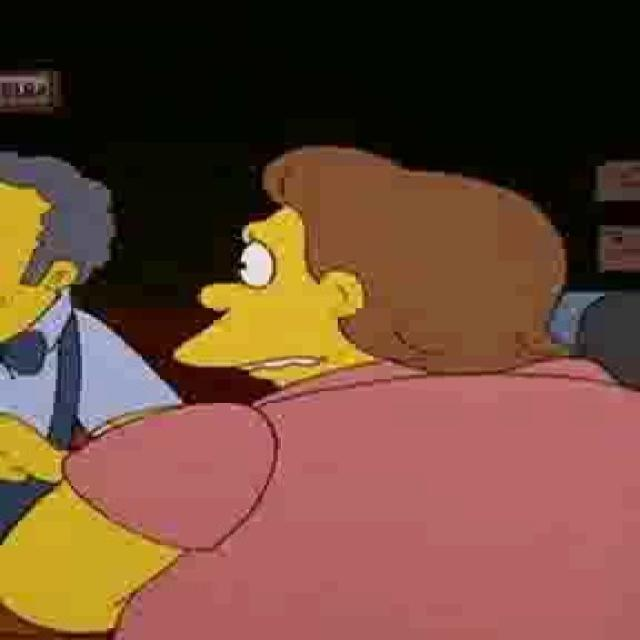Barney Gumble: (172, 145, 579, 391)
